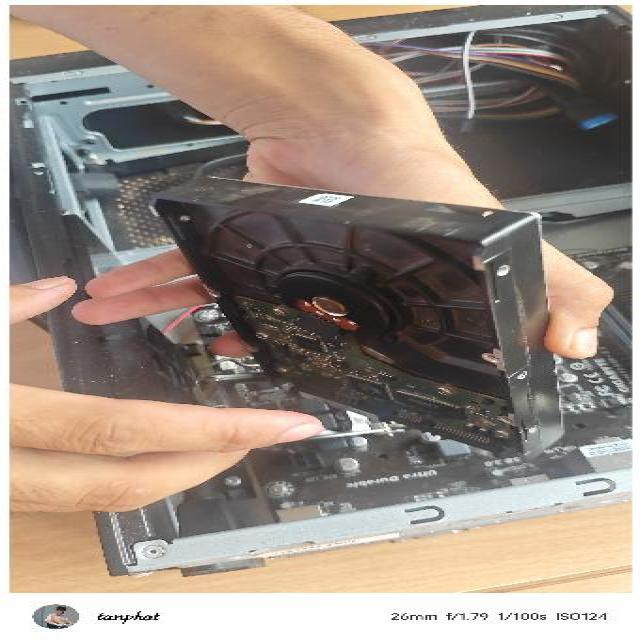DISK: (145, 172, 570, 464)
